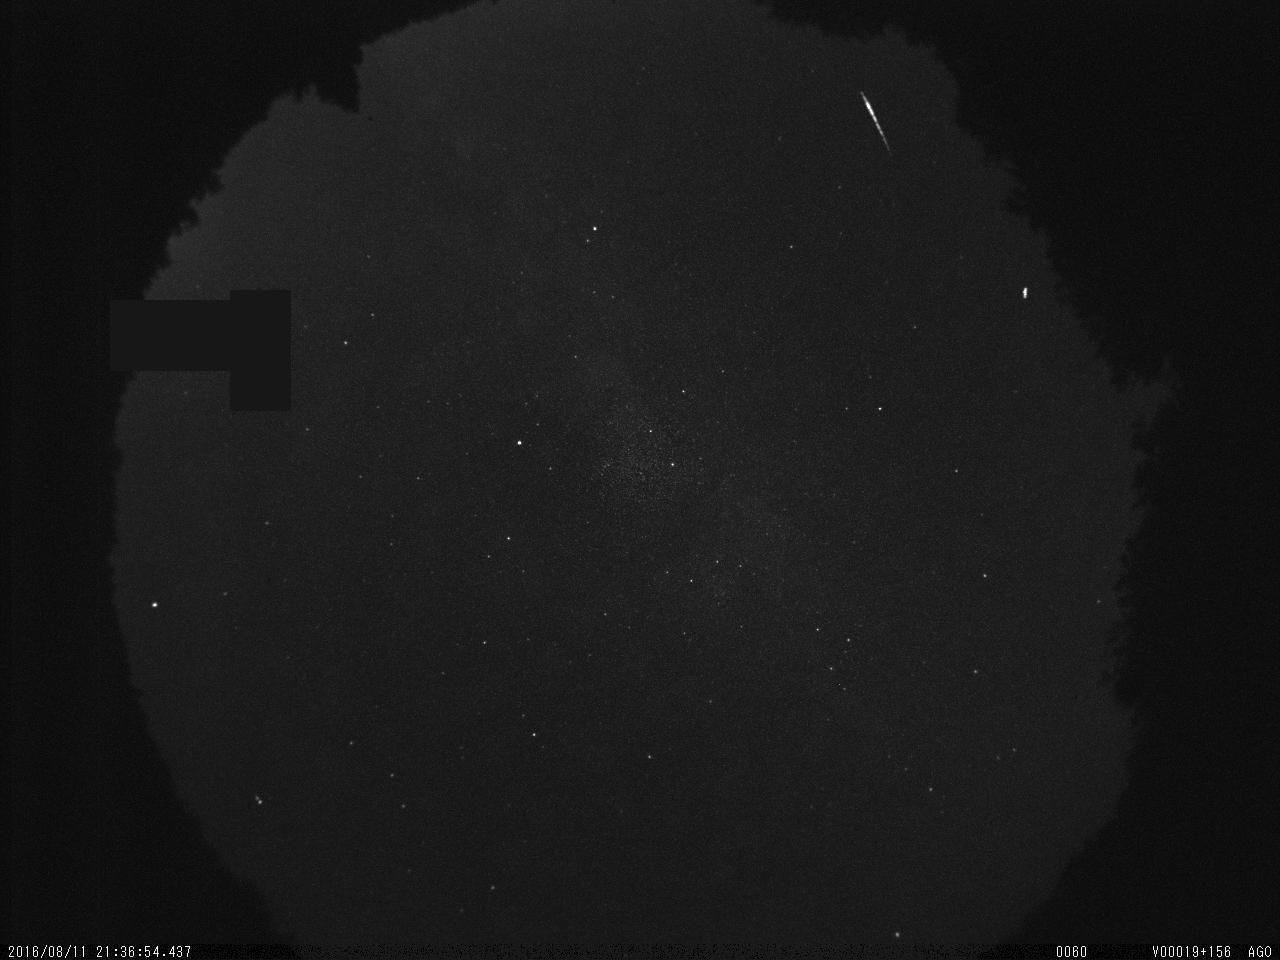meteor: (828, 73, 926, 165)
